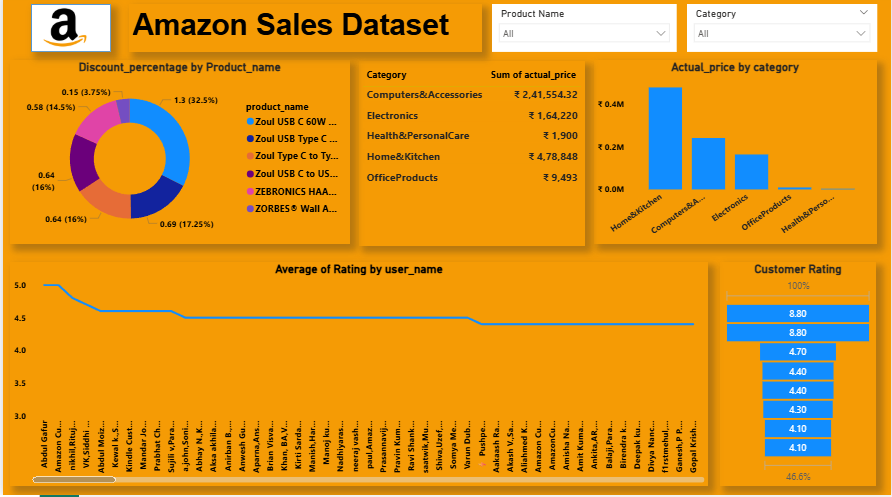

What the dashboard file says about the page in this screenshot:
{"tool":"powerbi","page":{"name":"Page 1","canvas":[1280,720],"ordinal":0},"visuals":[{"type":"textbox","box":[181.4,13,508.3,69.1],"z":0},{"type":"slicer","fields":{"Values":["amazon.category.1"]},"box":[985,13,273.6,69.1],"z":1000},{"type":"slicer","fields":{"Values":["amazon.product_name"]},"box":[704.2,13,266.4,69.1],"z":2000},{"type":"funnel","title":"Customer Rating","fields":{"Category":["amazon.user_name"],"Y":["Sum(amazon.rating)"]},"box":[1032.5,384.5,224.6,322.6],"z":3000},{"type":"clusteredColumnChart","title":"Actual_price by category","fields":{"Y":["Sum(amazon.actual_price)"],"Category":["amazon.category.1"]},"box":[851.7,94.1,406.5,265.4],"z":4000},{"type":"donutChart","title":"Discount_percentage by Product_name","fields":{"Category":["amazon.product_name"],"Y":["Sum(amazon.discount_percentage)"]},"box":[10,94,489,265],"z":5000},{"type":"lineChart","title":"Average of Rating by user_name","fields":{"Y":["Avg(amazon.rating)"],"Category":["amazon.user_name"]},"box":[10.1,384.5,1005.1,322.6],"z":6000},{"type":"shape","box":[40.3,13,115.2,69.1],"z":7000},{"type":"tableEx","fields":{"Values":["amazon.category.1","Sum(amazon.actual_price)"]},"box":[513,95,325.4,266],"z":8000},{"type":"image","box":[40.3,5.8,97.9,82.1],"z":9000}]}

Visuals, with their boxes in screenshot pixels (x1, y1, x2, y2), scaled from the page's 1280x720 canvas onto the 892x497 screenshot:
textbox: (126,9,481,57)
slicer - amazon.category.1: (686,9,877,57)
slicer - amazon.product_name: (491,9,676,57)
"Customer Rating" funnel: (720,265,876,488)
"Actual_price by category" clusteredColumnChart: (594,65,877,248)
"Discount_percentage by Product_name" donutChart: (7,65,348,248)
"Average of Rating by user_name" lineChart: (7,265,707,488)
shape: (28,9,108,57)
tableEx - amazon.category.1 x Sum(amazon.actual_price): (357,66,584,249)
image: (28,4,96,61)
